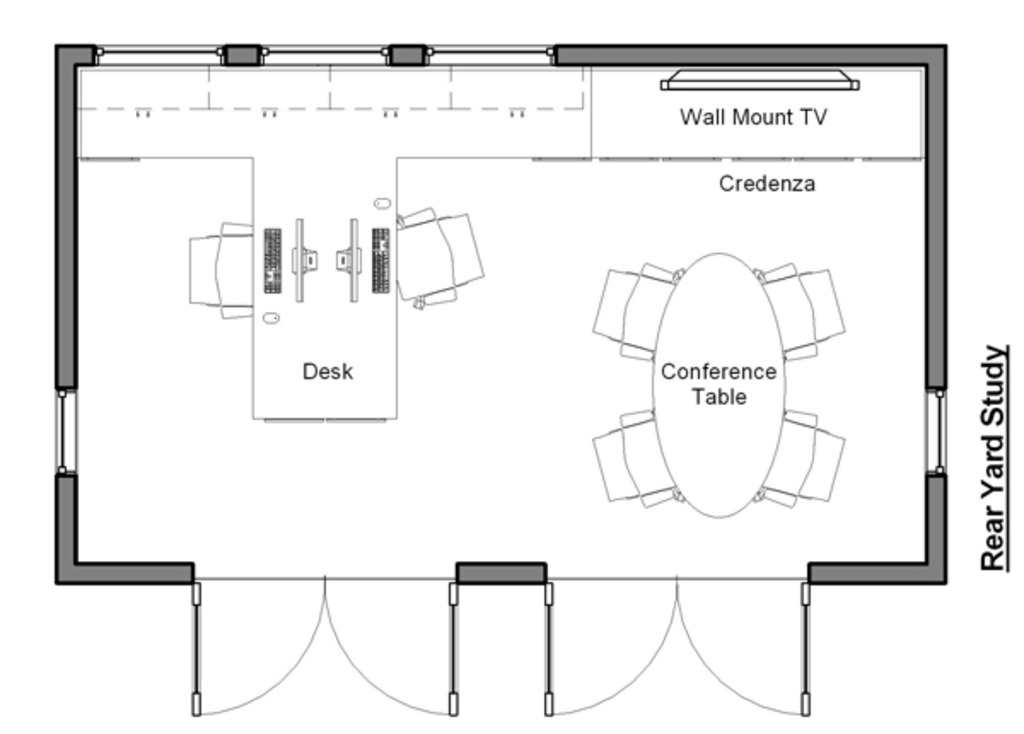door: (187, 573, 459, 721), (546, 574, 809, 718)
windows: (82, 36, 566, 80), (49, 376, 83, 483), (921, 380, 951, 488)
